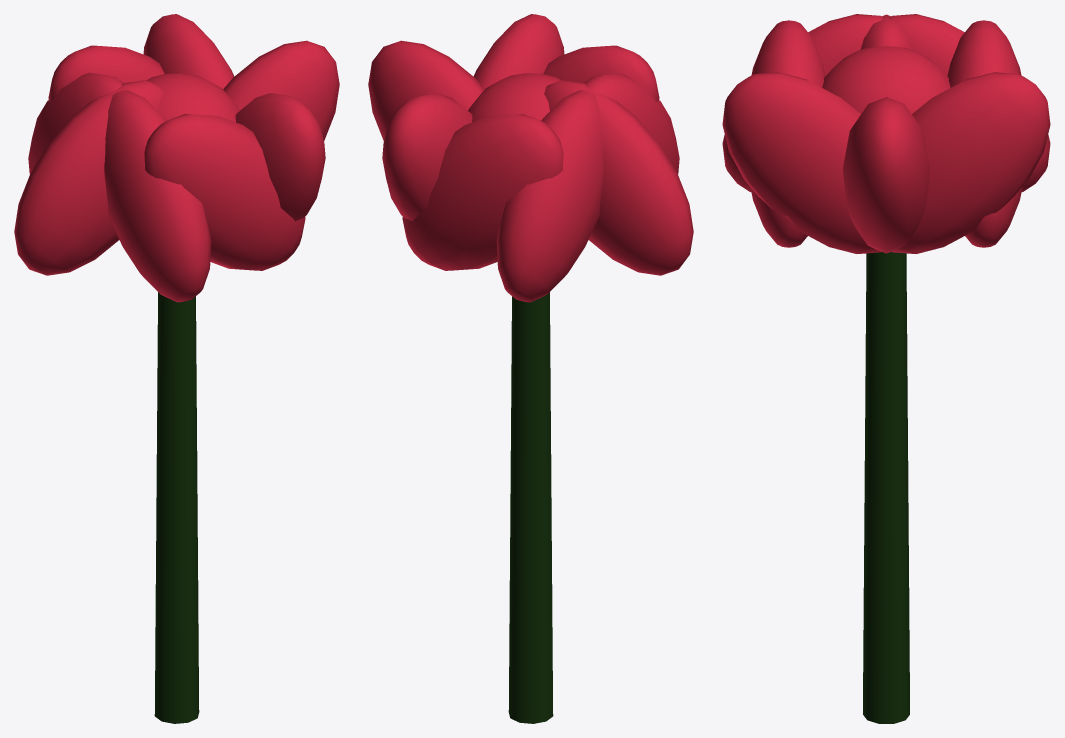
File: lotus-flower.glb
3 renders of one model, left to right at view 1: azimuth 30°, elevation 25°; view 2: azimuth 150°, elevation 25°; view 3: azimuth 270°, elevation 25°, orthographic. The views are drawn at different scales.
Parts seen in each view (by area): view 1: petals, stem; view 2: petals, stem; view 3: petals, stem.
Boxes of the visible parts, x1,y1,x2,y2 form: petals: (14, 14, 339, 302); stem: (154, 292, 199, 723); petals: (368, 14, 693, 302); stem: (508, 292, 553, 723); petals: (722, 14, 1050, 253); stem: (863, 252, 909, 723).
Bounding box in the file's own units: 0.2766 × 0.5304 × 0.2356.
